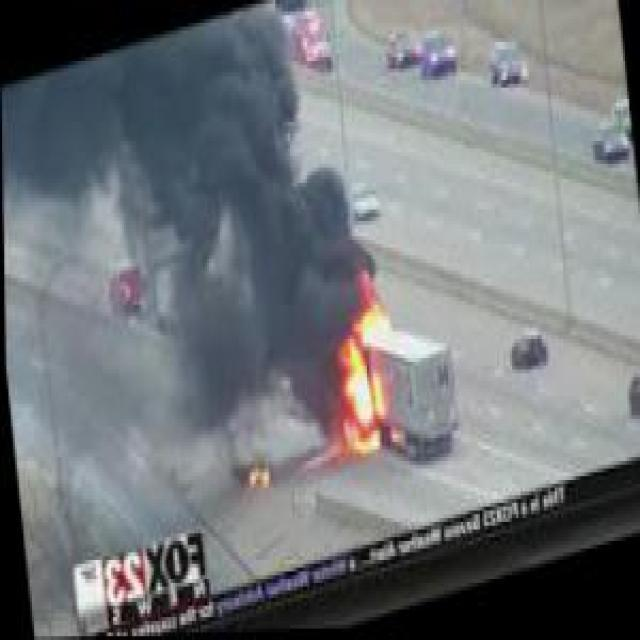Fire: (280, 258, 406, 492), (236, 446, 282, 503)
Smoke: (0, 0, 380, 396), (133, 175, 280, 469)
